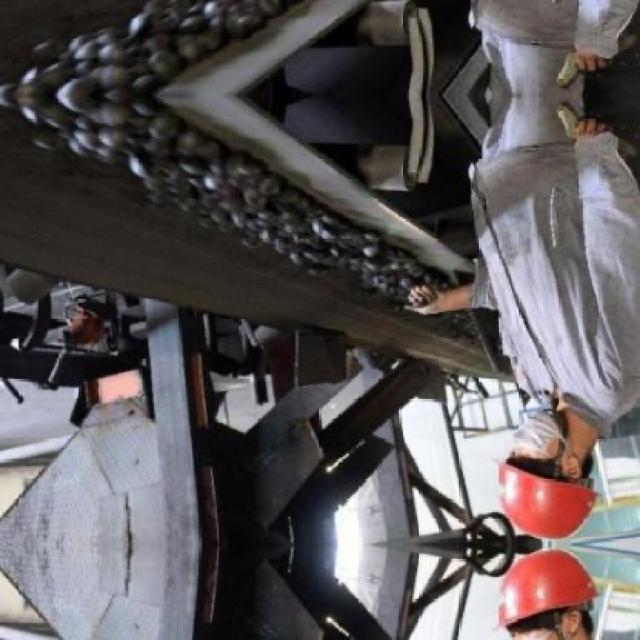con casco: (495, 384, 605, 537)
